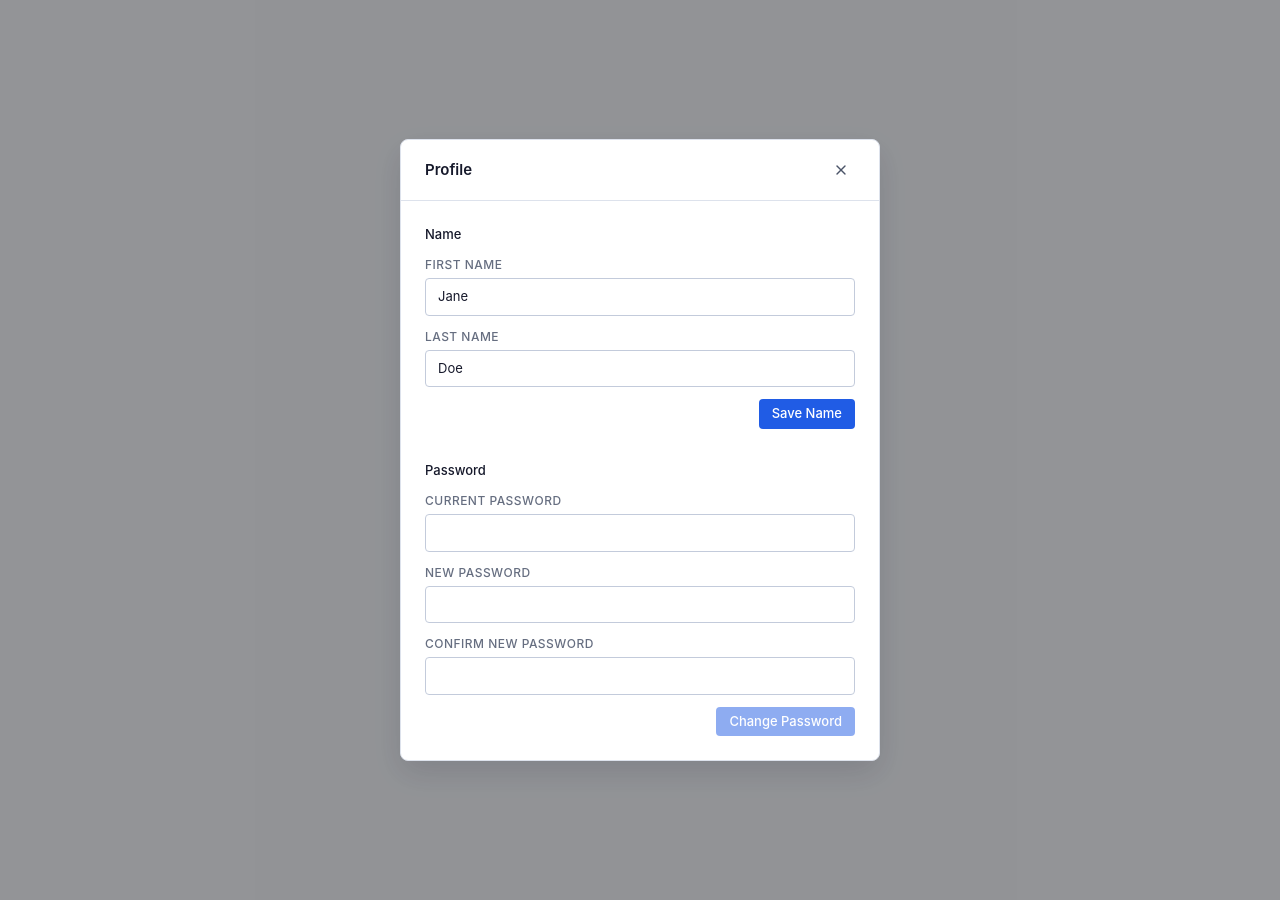
Test: changing password › submits current/new password and clears the fields on success
The width and height of the screenshot is (1280, 900).
Type "old-pass" into the password field labelled "Current Password". click: (640, 533)
box: [425, 514, 855, 552]
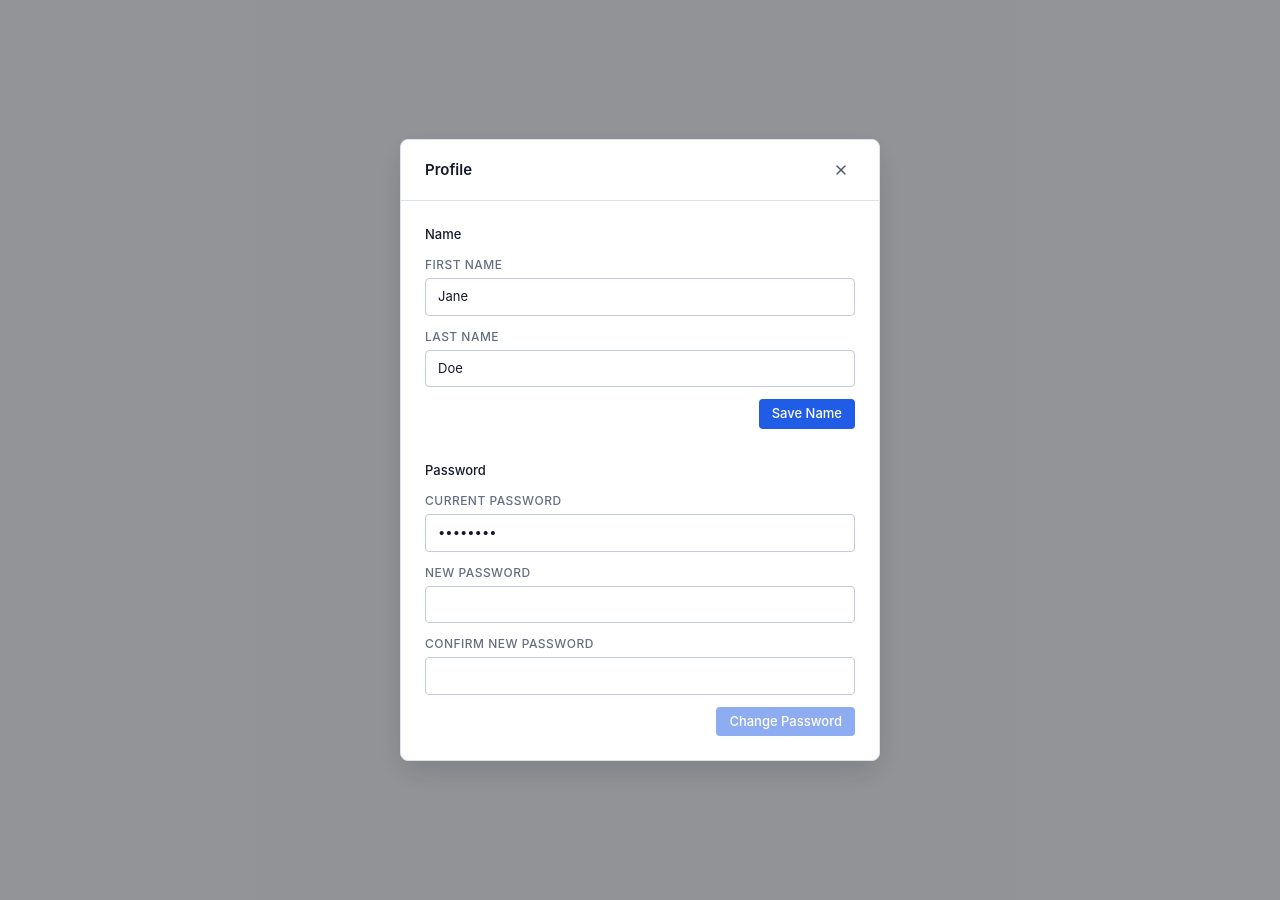
Type "new-pass" into the password field labelled "New Password". click: (640, 605)
box: [425, 586, 855, 623]
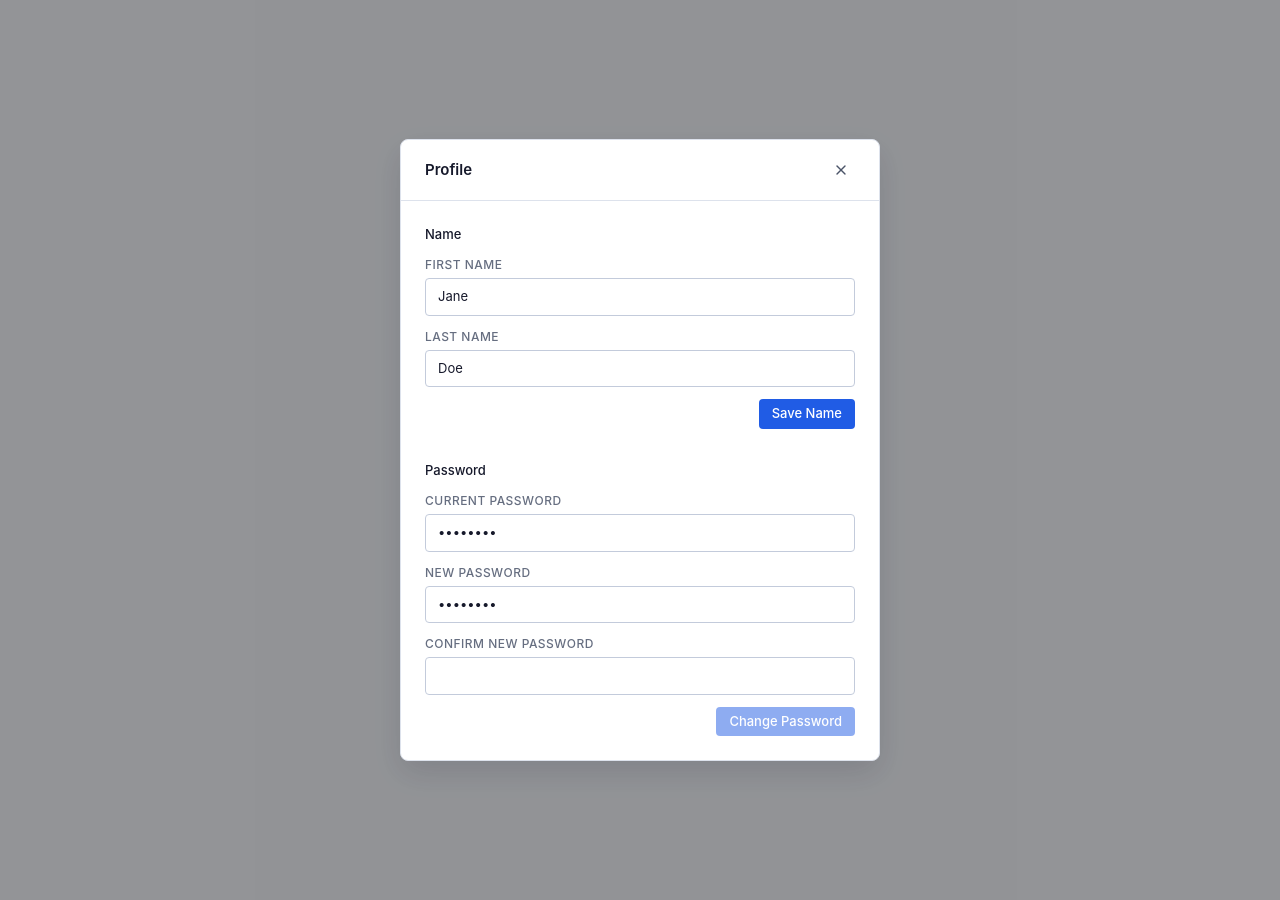
Type "new-pass" into the password field labelled "Confirm New Password". click: (640, 676)
box: [425, 657, 855, 695]
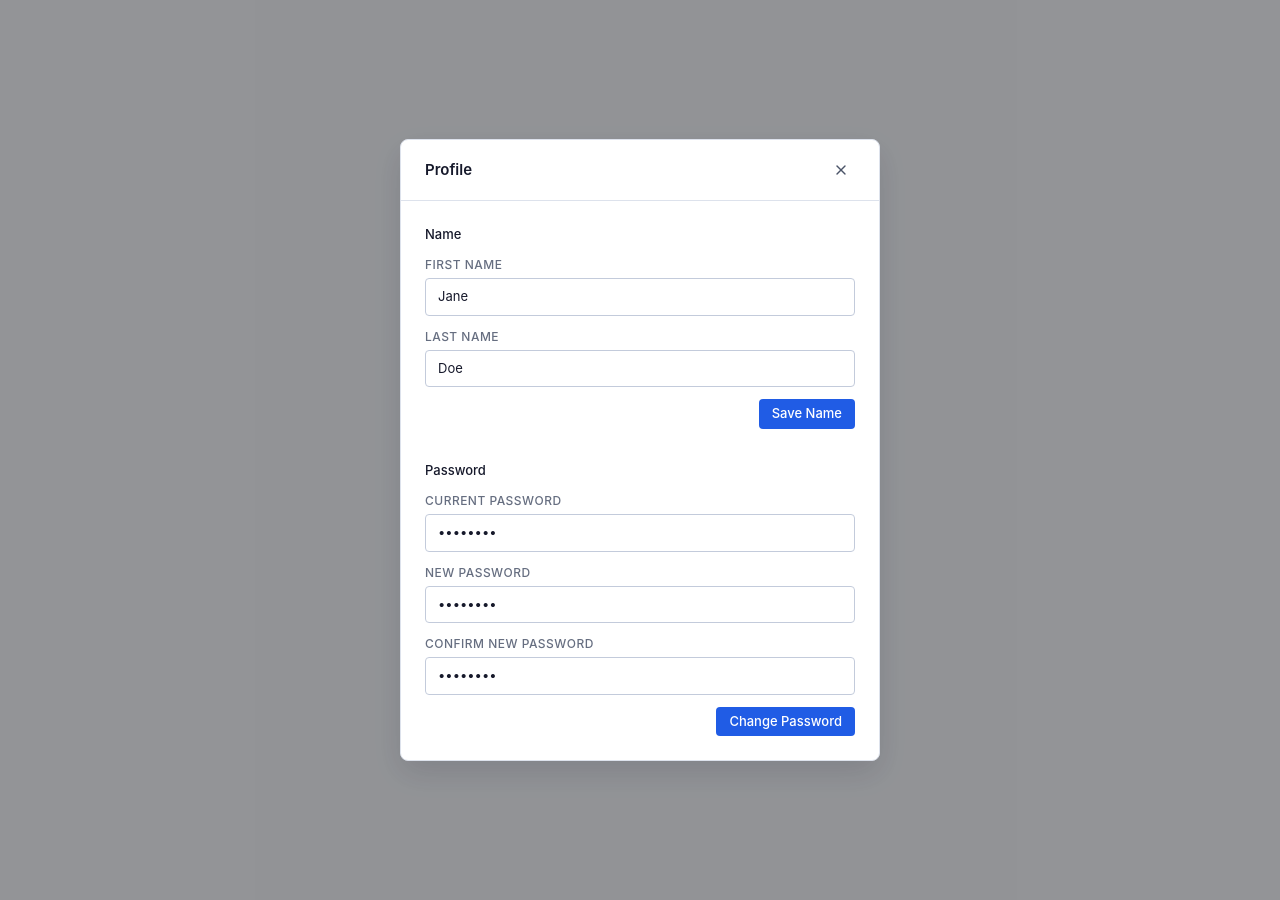
Submit the form that starts with "Current Password", box [425, 492, 855, 736]
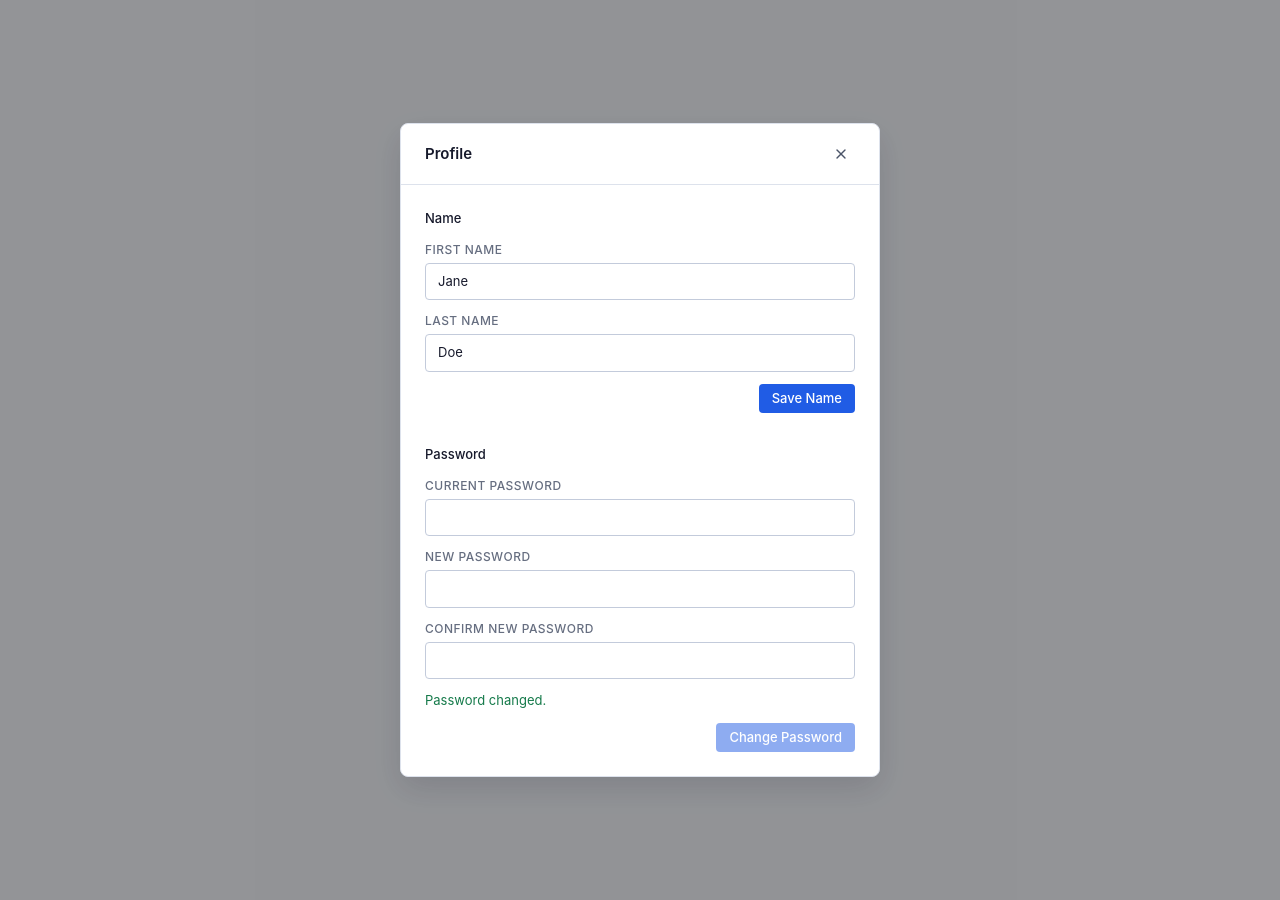
Expected: the password field labelled "Current Password" is empty, [425, 498, 855, 536]
Expected: the text "Password changed." is shown, [425, 692, 546, 708]
